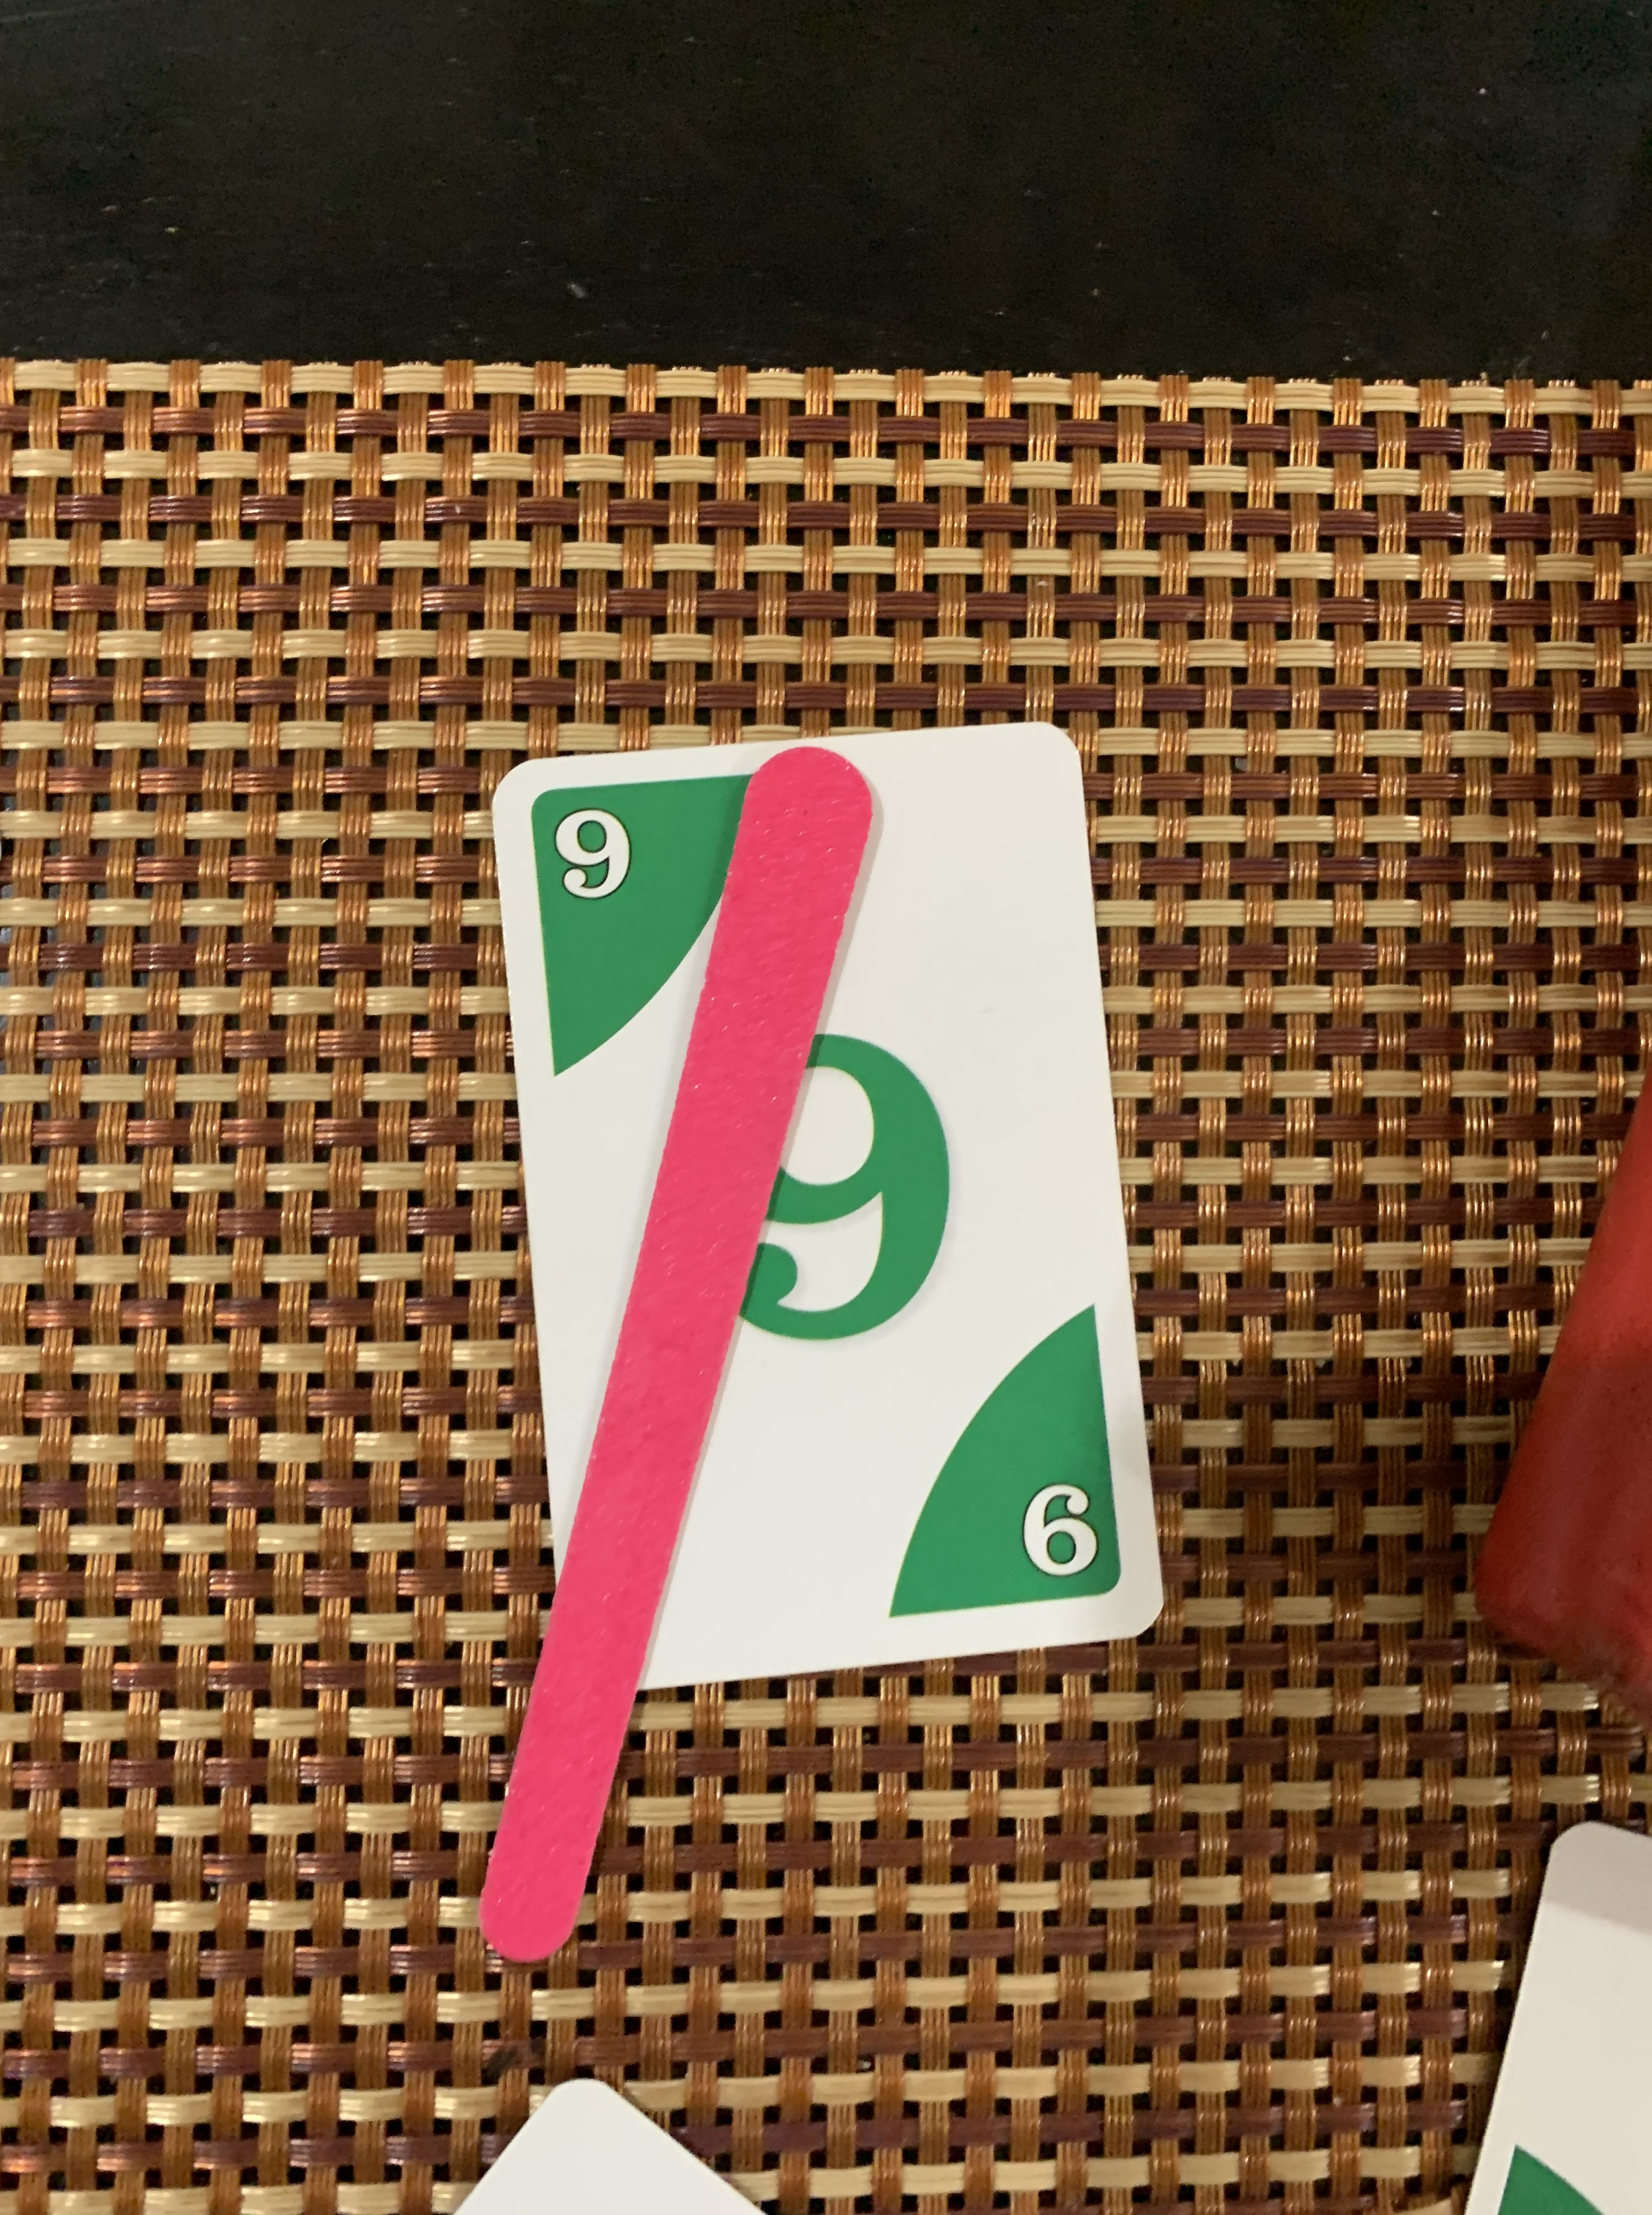nine: (463, 693, 1177, 1717)
